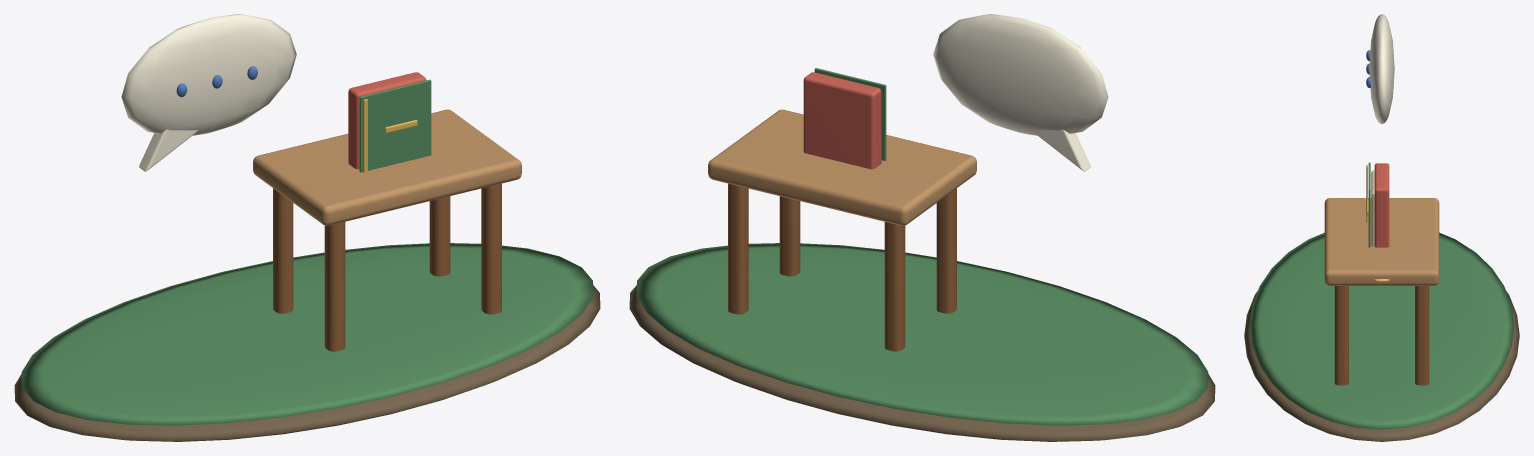
File: reading-aloud.glb
The picture shows the model from 3 angles, left to right: view 1: azimuth 30°, elevation 25°; view 2: azimuth 150°, elevation 25°; view 3: azimuth 270°, elevation 25°; orthographic projection. The views are drawn at different scales.
Parts seen in each view (by area): view 1: reading-aloud_surface_01, reading-aloud_surface_02, reading-aloud_surface_04, reading-aloud_surface_00, reading-aloud_surface_05, reading-aloud_surface_06, reading-aloud_surface_08; view 2: reading-aloud_surface_01, reading-aloud_surface_02, reading-aloud_surface_04, reading-aloud_surface_00, reading-aloud_surface_05, reading-aloud_surface_06; view 3: reading-aloud_surface_01, reading-aloud_surface_04, reading-aloud_surface_00, reading-aloud_surface_05, reading-aloud_surface_02, reading-aloud_surface_06, reading-aloud_surface_07.
Part boxes in pixels (x1,y1,x2,y2): reading-aloud_surface_01: [21, 79, 593, 425]; reading-aloud_surface_02: [121, 14, 296, 171]; reading-aloud_surface_04: [253, 109, 521, 225]; reading-aloud_surface_00: [14, 285, 600, 441]; reading-aloud_surface_05: [273, 183, 501, 351]; reading-aloud_surface_06: [348, 72, 426, 169]; reading-aloud_surface_08: [363, 99, 417, 172]; reading-aloud_surface_01: [636, 68, 1208, 425]; reading-aloud_surface_02: [933, 14, 1108, 171]; reading-aloud_surface_04: [708, 109, 976, 225]; reading-aloud_surface_00: [629, 285, 1215, 441]; reading-aloud_surface_05: [728, 183, 956, 351]; reading-aloud_surface_06: [803, 72, 881, 169]; reading-aloud_surface_01: [1249, 162, 1514, 429]; reading-aloud_surface_04: [1324, 198, 1439, 285]; reading-aloud_surface_00: [1244, 291, 1519, 441]; reading-aloud_surface_05: [1334, 286, 1429, 385]; reading-aloud_surface_02: [1369, 14, 1394, 123]; reading-aloud_surface_06: [1374, 163, 1389, 247]; reading-aloud_surface_07: [1371, 170, 1374, 246].
Bounding box in the file's own units: 4.56 × 2.87 × 2.5.
